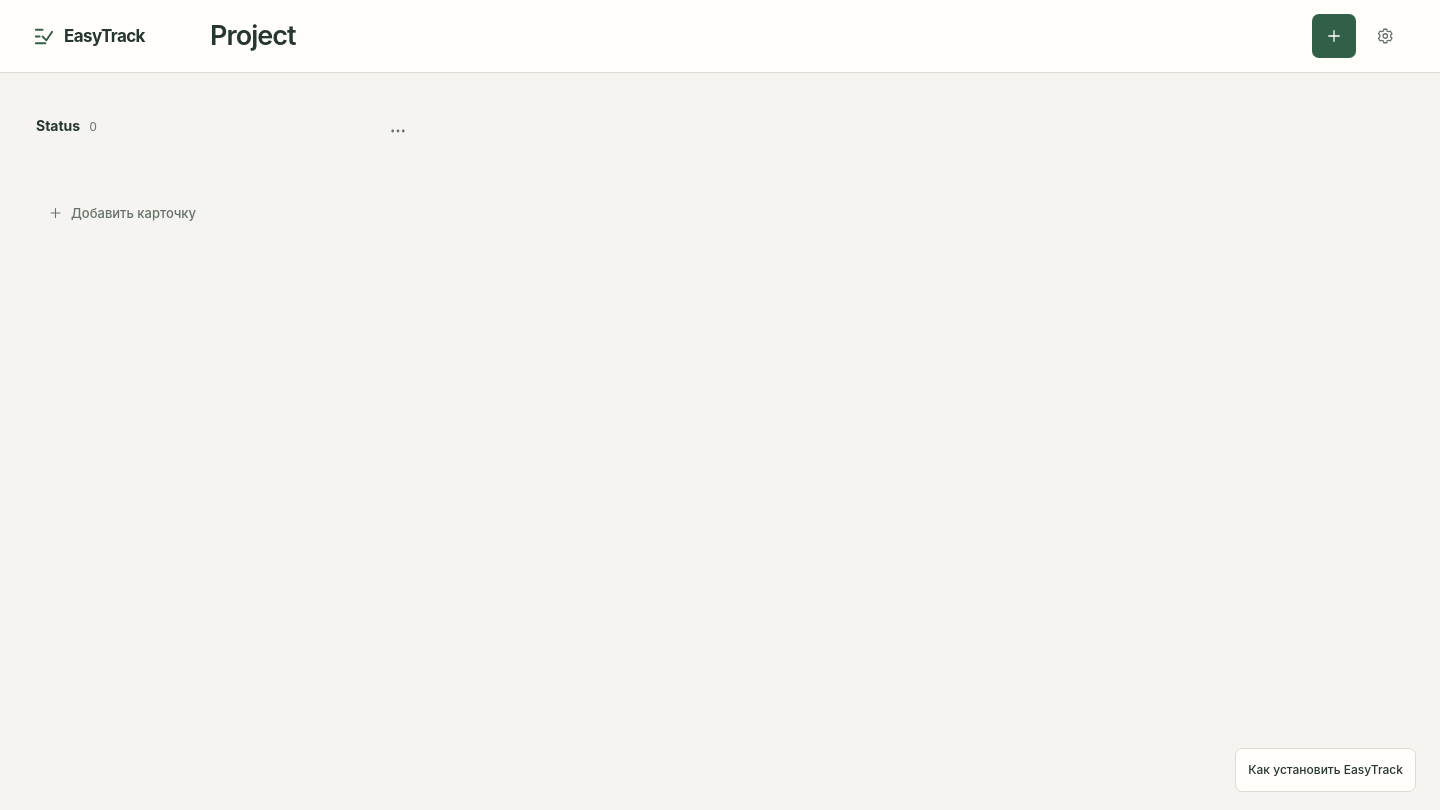
Test case: keeps the status and dialog after a storage failure and permits retry
Expected: the heading "Project" is shown, [210,19,296,52]
Click the button named "Действия статуса Status" at (398, 131), box [376,109,420,153]
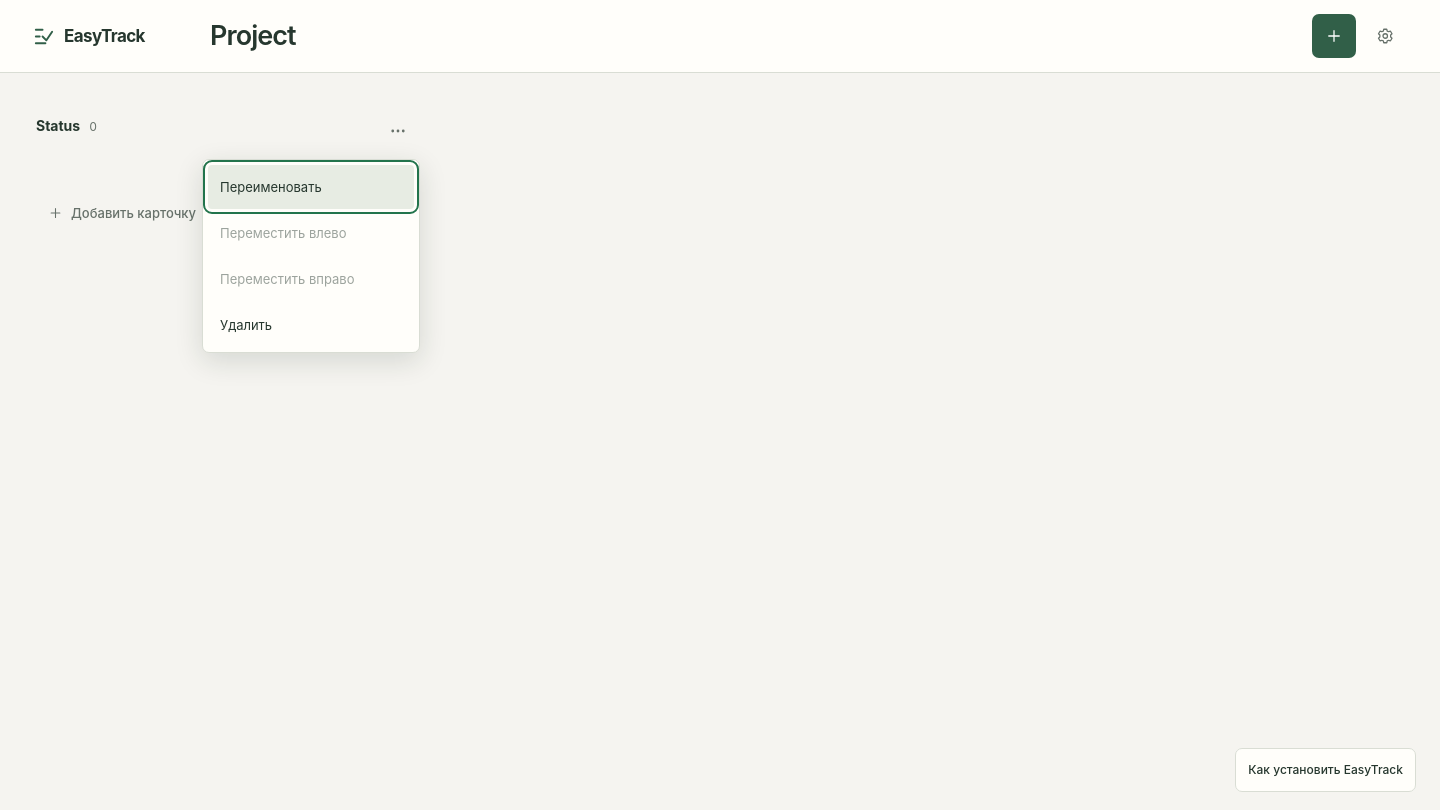
Click the menu item "Удалить" at (311, 325), box [208,303,414,347]
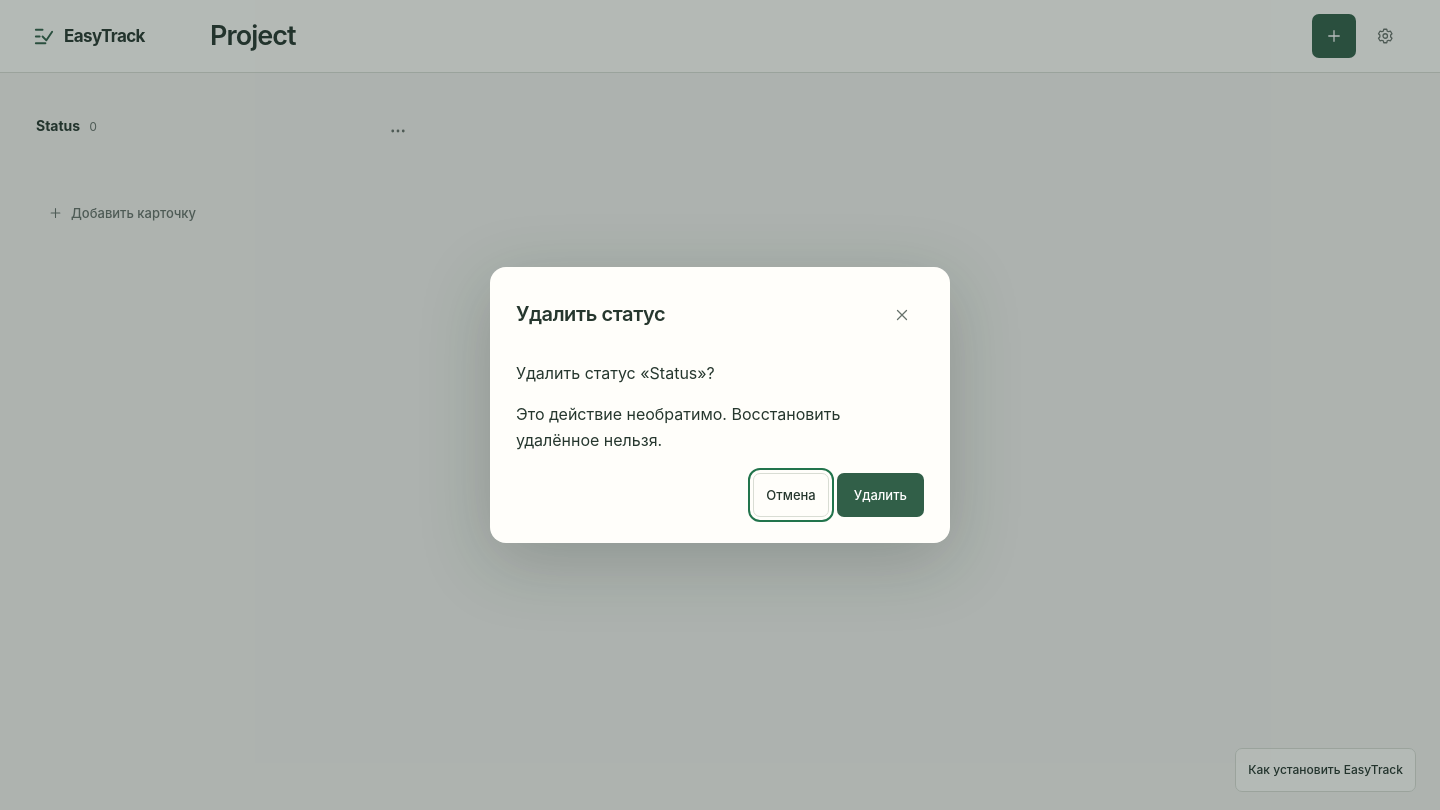
Click the button "Удалить" at (880, 495), box [837,473,924,517]
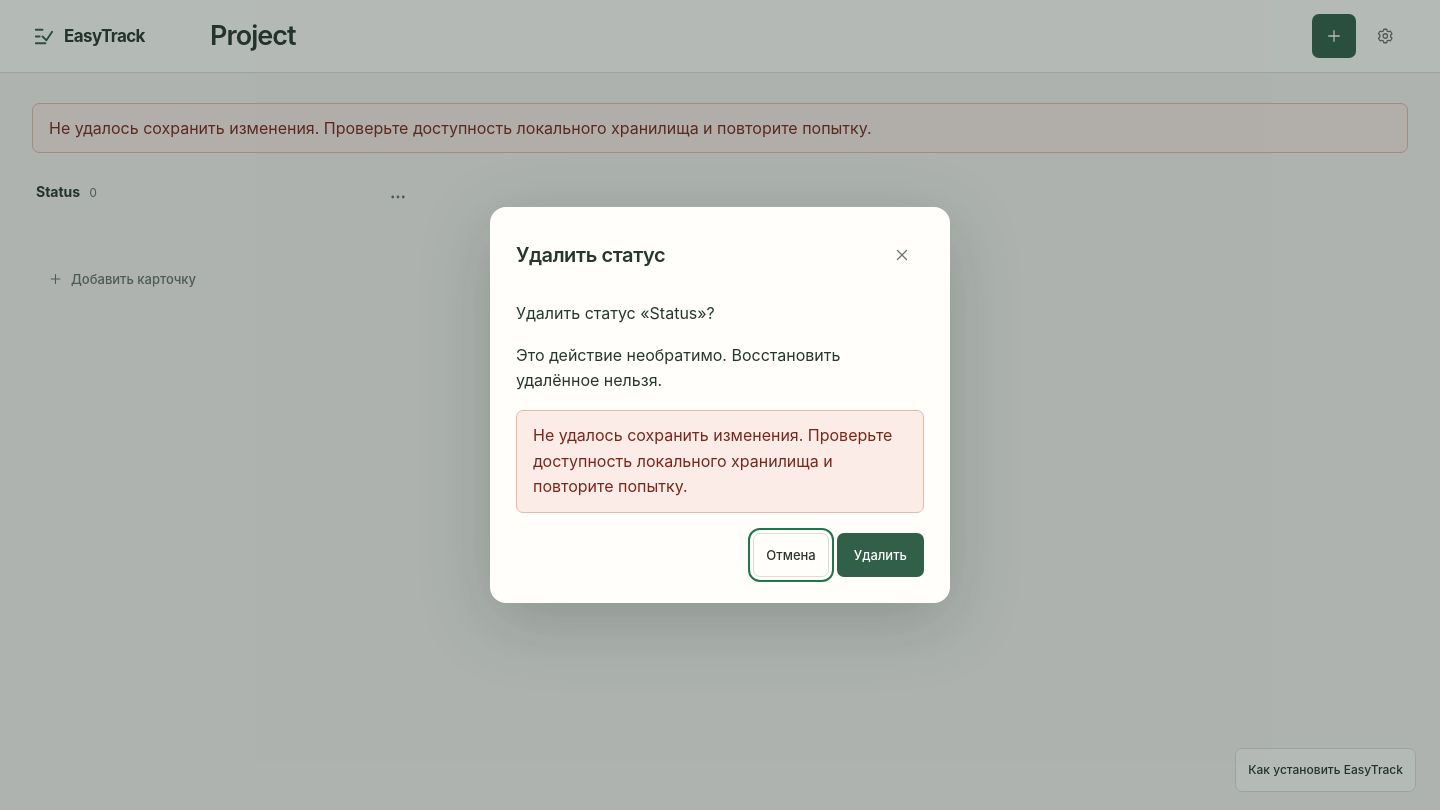
Expected: the button named "Действия статуса Status" is shown, [376,175,420,219]
Expected: the message shows "Не удалось сохранить", [533,425,892,496]
Click the button "Удалить" at (880, 555), box [837,533,924,577]
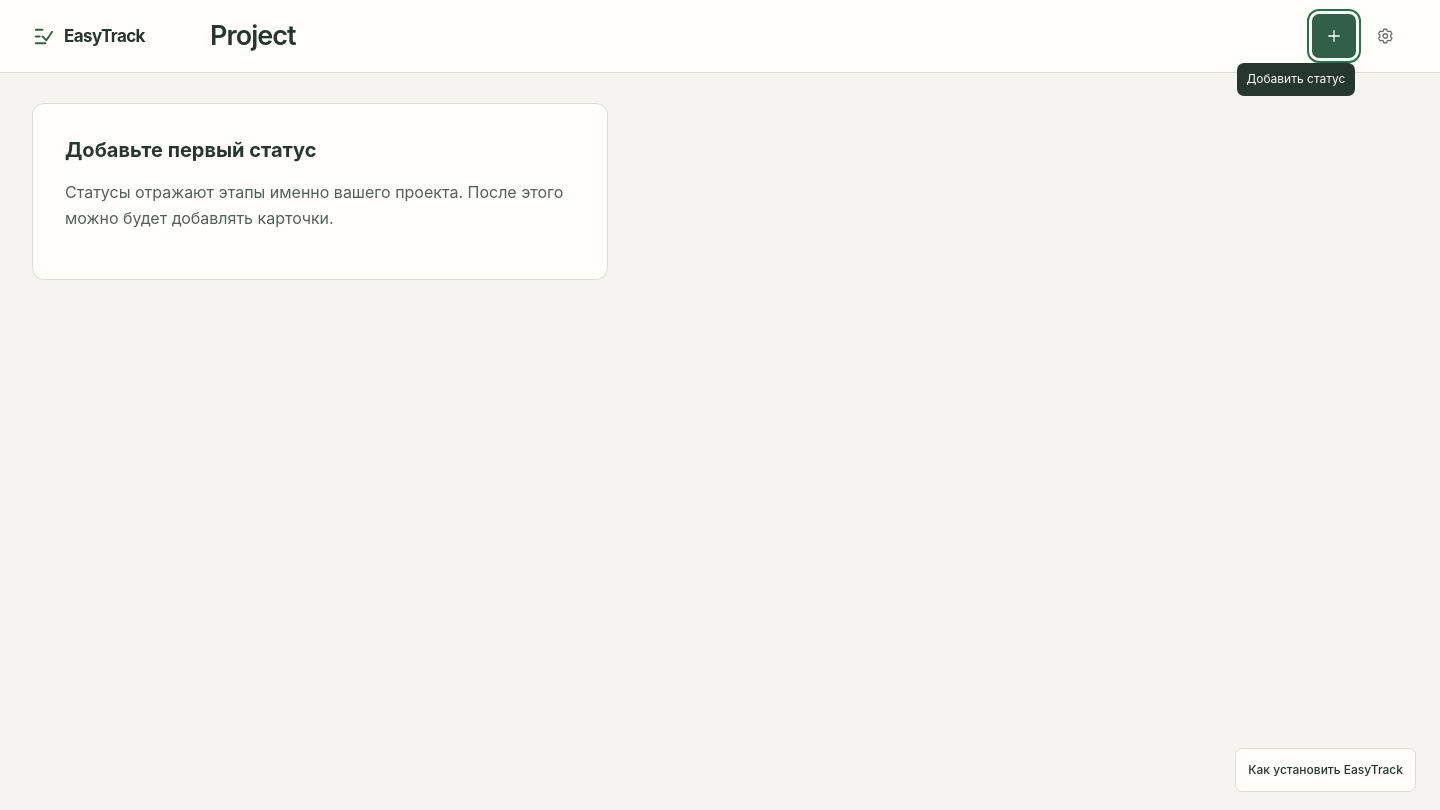
Expected: the dialog is gone
Expected: the heading "Добавьте первый статус" is shown, [65,138,316,162]
